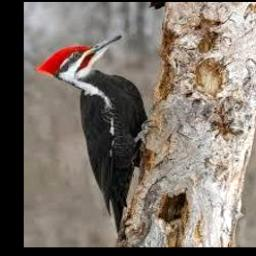Woodpecker: (36, 34, 149, 236)
